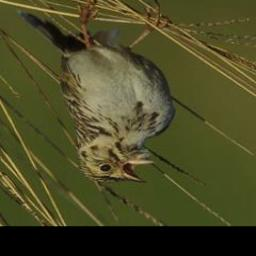Sparrow: (10, 0, 179, 188)
